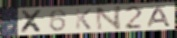2: (124, 5, 145, 31)
6: (48, 9, 68, 32)
A: (147, 5, 173, 28)
K: (75, 8, 93, 31)
N: (94, 5, 124, 32)
X: (19, 9, 46, 34)
